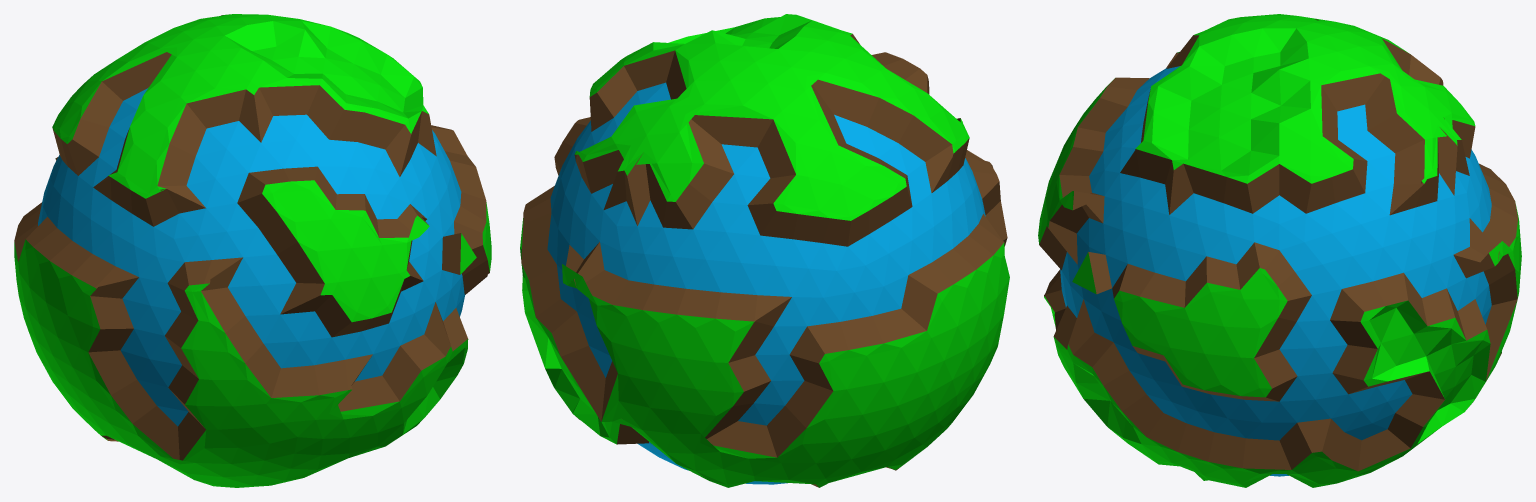
The model's file is EarthType2.fbx.
3 views of the same model, side by side, from view 1: azimuth 30°, elevation 25°; view 2: azimuth 150°, elevation 25°; view 3: azimuth 270°, elevation 25° (orthographic). The views are drawn at different scales.
Visible parts, largest first — view 1: Icosphere; view 2: Icosphere; view 3: Icosphere.
Boxes of the visible parts, x1,y1,x2,y2 form: Icosphere: (14, 14, 491, 487); Icosphere: (520, 14, 1009, 487); Icosphere: (1038, 14, 1521, 487).
Size of the model in its own units: 1097 by 1046 by 1098.
